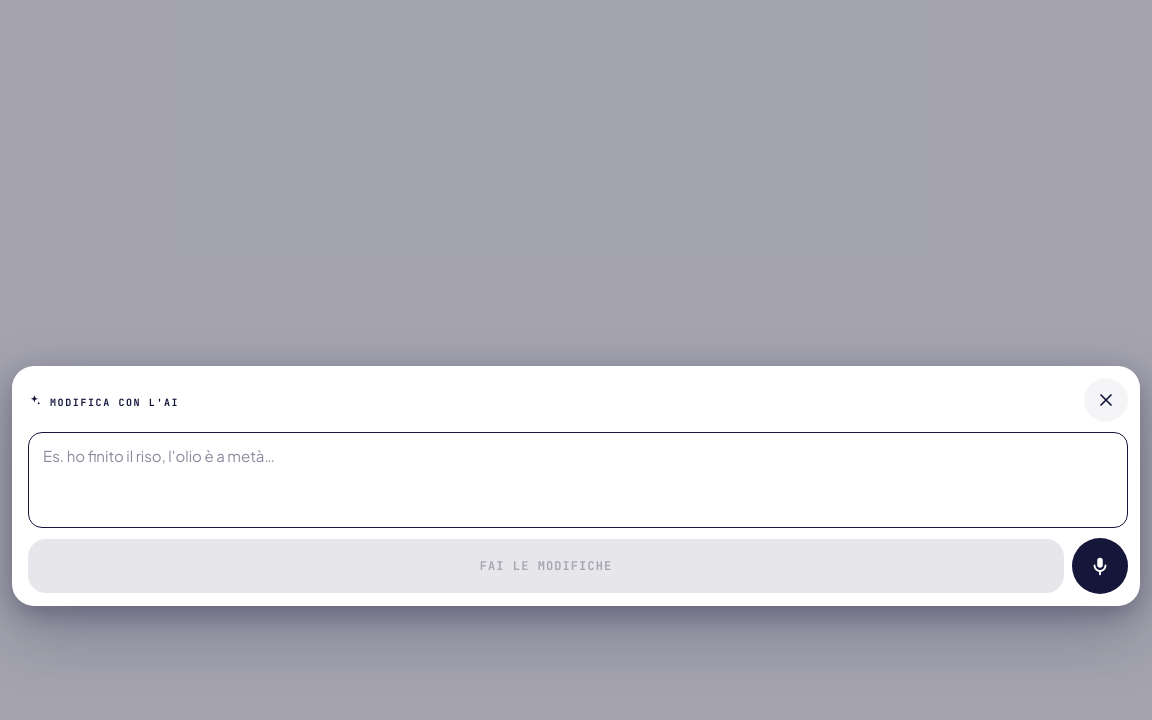
Scenario: WidgetAI › l'invio › senza sessione → messaggio generico, nessuna fetch, la bozza resta
The width and height of the screenshot is (1152, 720).
Type "ho finito il riso" into the text box named "Nota per l'AI".
click(578, 480); type("ho finito il riso")  # box [28,432,1128,528]
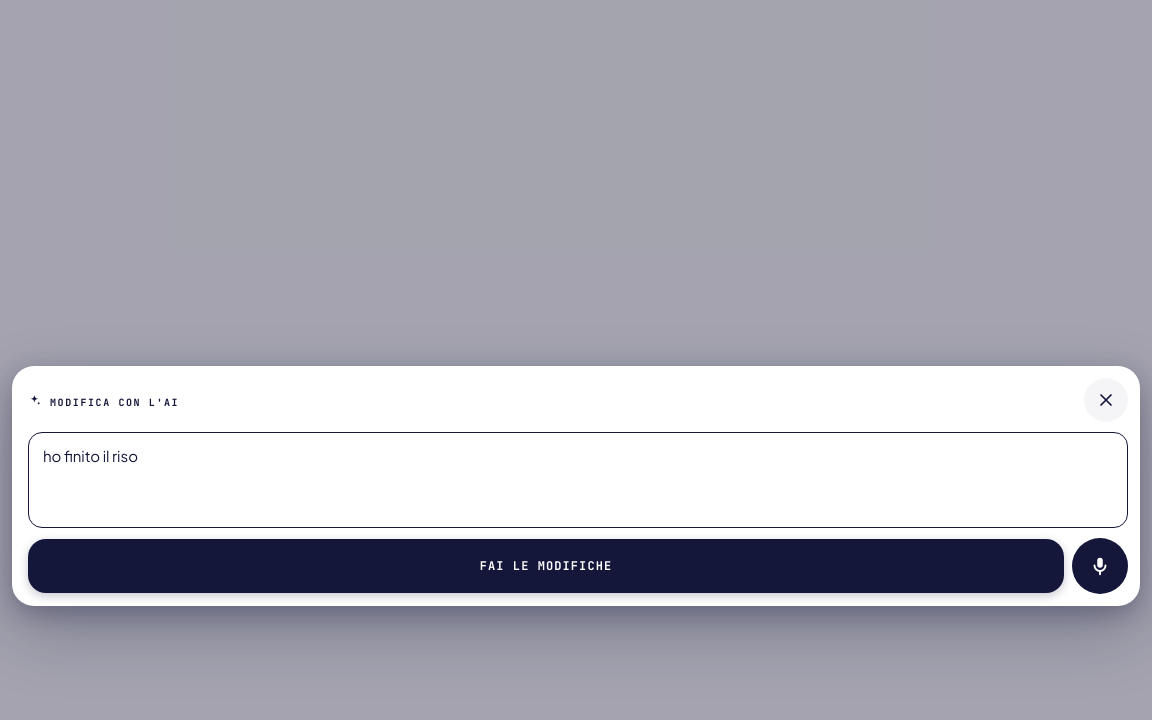
Click the button "FAI LE MODIFICHE".
click(546, 566)  # box [28,539,1064,593]
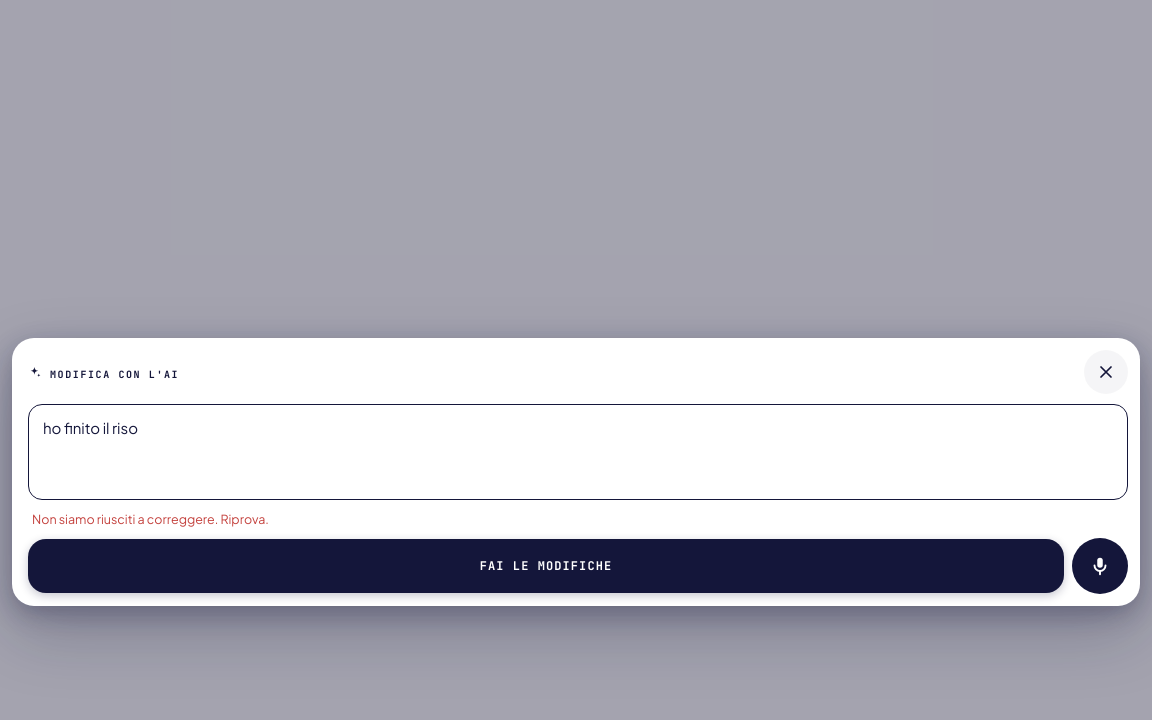
Check: the text box holds "ho finito il riso", box [28,404,1128,500]
Check: the message reads "Non siamo riusciti a correggere. Riprova.", box [32,511,269,527]
